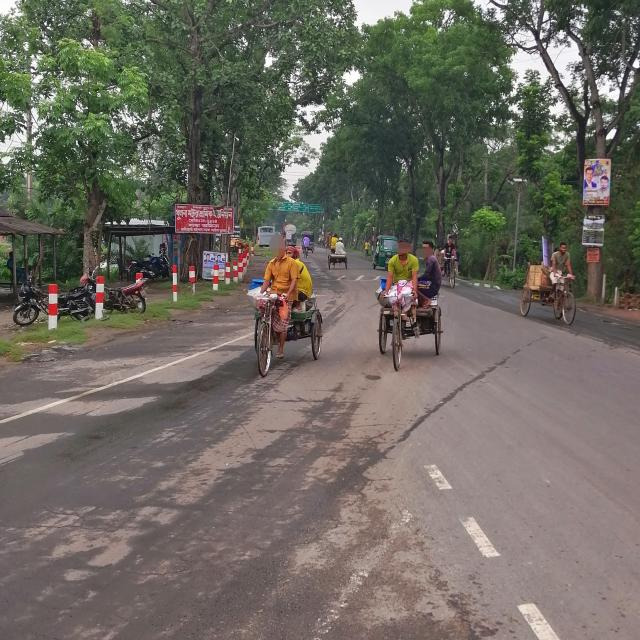Van: (369, 274, 451, 379), (243, 291, 333, 370), (509, 272, 584, 331)
